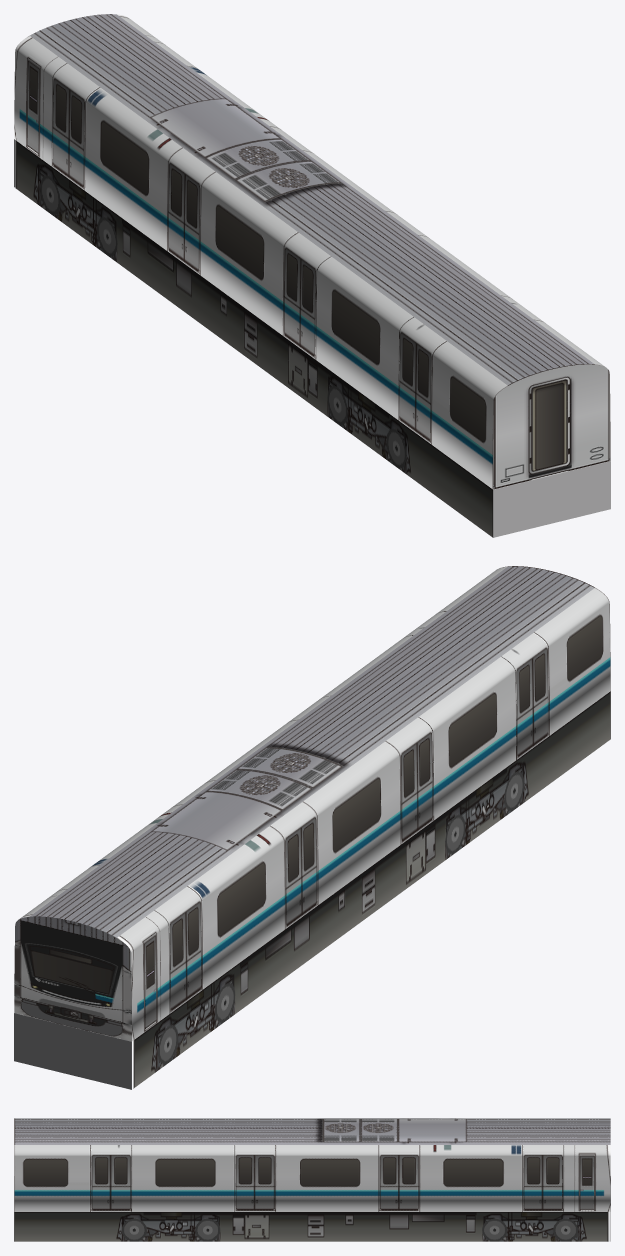
File: car2.glb
The picture shows the model from 3 angles, top to bottom: view 1: azimuth 30°, elevation 25°; view 2: azimuth 150°, elevation 25°; view 3: azimuth 270°, elevation 25°; orthographic projection. The views are drawn at different scales.
Visible parts, largest first — view 1: osakyu-5000-car2; view 2: osakyu-5000-car2; view 3: osakyu-5000-car2.
Boxes of the visible parts, x1,y1,x2,y2 form: osakyu-5000-car2: (14,14,610,537); osakyu-5000-car2: (14,566,610,1089); osakyu-5000-car2: (14,1118,610,1241).
Bounding box in the file's own units: 2.9 × 3.62 × 20.43.
9 materials, 8 textured.
